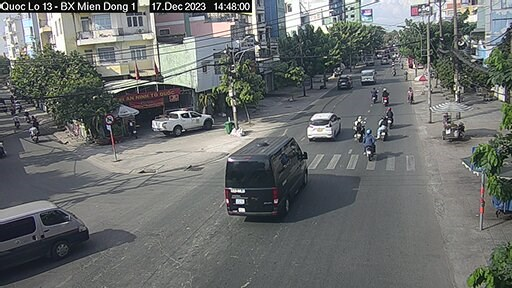car: (212, 132, 314, 223), (1, 190, 90, 277), (137, 107, 218, 140), (305, 105, 341, 144), (361, 65, 378, 85), (339, 70, 352, 88)
motorbike: (361, 130, 378, 159), (351, 112, 366, 137)
